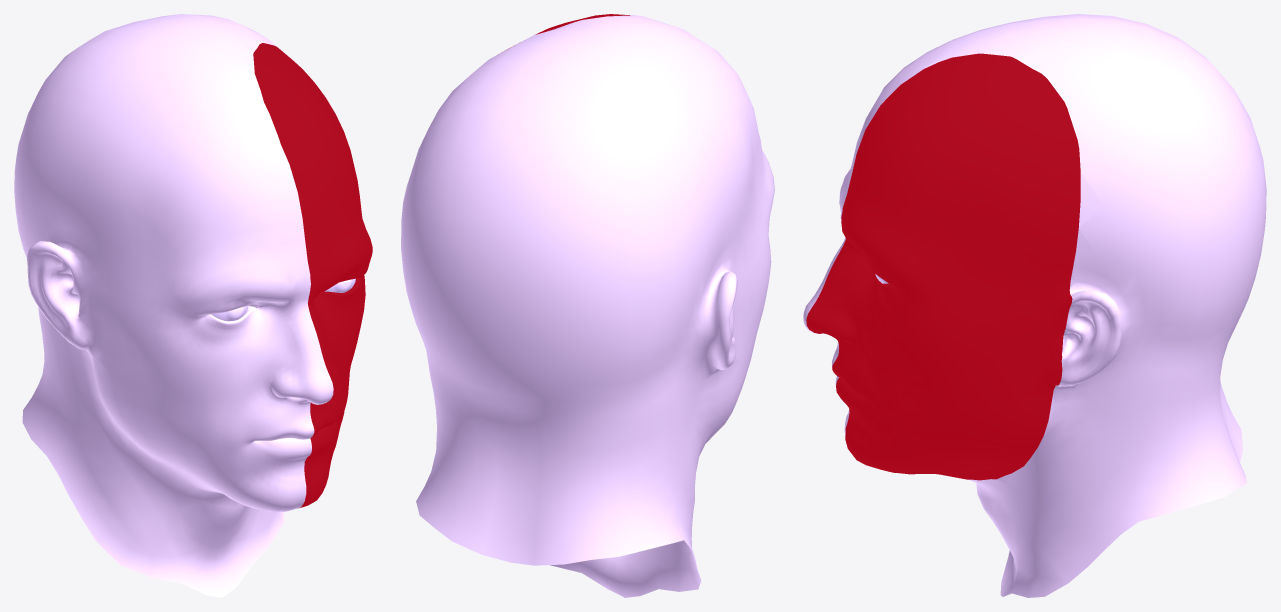
Rendered from Migraine.glb.
3 views of the same model, side by side, from view 1: azimuth 30°, elevation 25°; view 2: azimuth 150°, elevation 25°; view 3: azimuth 270°, elevation 25° (orthographic). The views are drawn at different scales.
Parts seen in each view (by area): view 1: man_body_0014 uv map, man_body_0014 uv map_Material.004_0.001; view 2: man_body_0014 uv map; view 3: man_body_0014 uv map, man_body_0014 uv map_Material.004_0.001.
Boxes of the visible parts, x1=… form: man_body_0014 uv map: x1=14, y1=14, x2=333, y2=597; man_body_0014 uv map_Material.004_0.001: x1=253, y1=43, x2=372, y2=507; man_body_0014 uv map: x1=401, y1=15, x2=774, y2=597; man_body_0014 uv map: x1=803, y1=14, x2=1266, y2=597; man_body_0014 uv map_Material.004_0.001: x1=806, y1=53, x2=1080, y2=480.
Bounding box in the file's own units: 0.1766 × 0.3089 × 0.2292.
